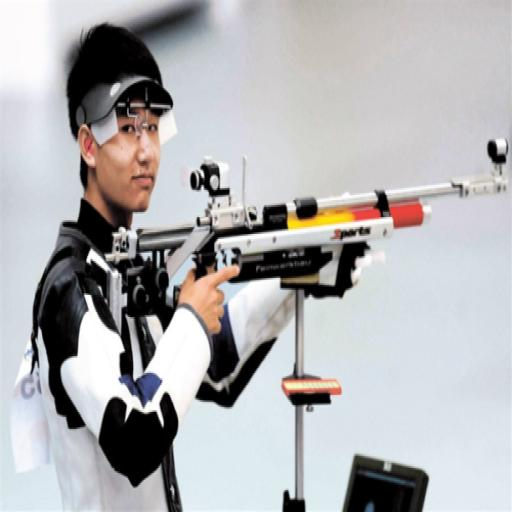shooting: (14, 19, 512, 510)
